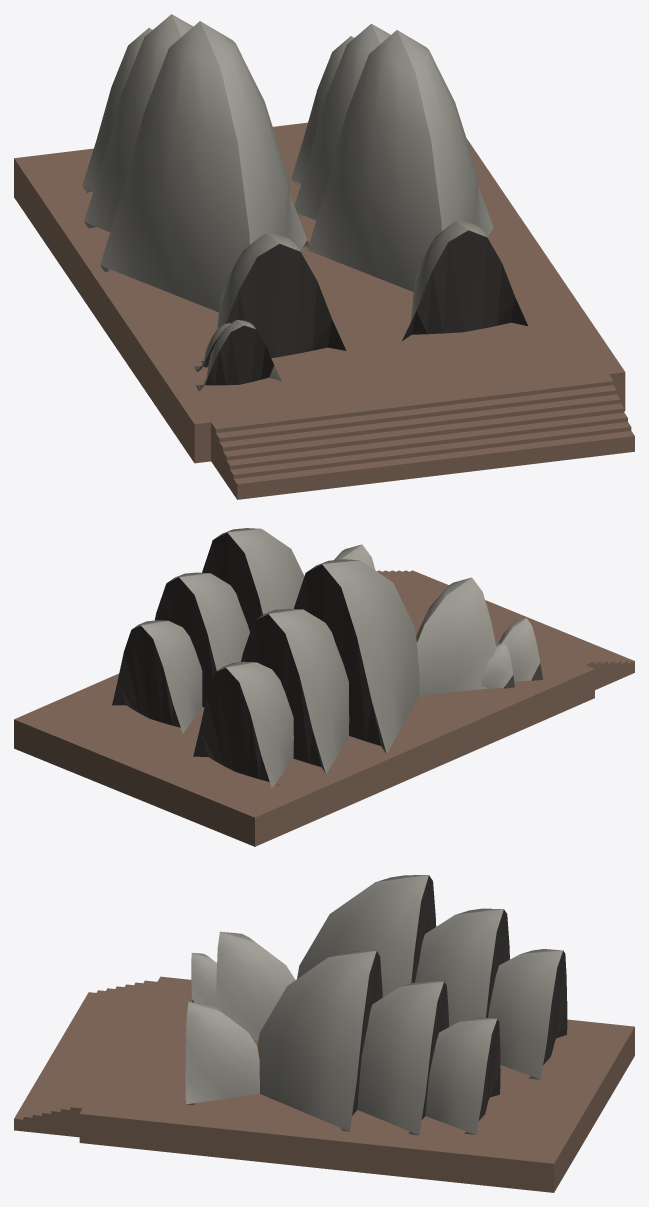
Rendered from sydney_opera_house-r3-lod2.glb.
3 renders of one model, top to bottom at view 1: azimuth 30°, elevation 25°; view 2: azimuth 150°, elevation 25°; view 3: azimuth 270°, elevation 25°, orthographic. The views are drawn at different scales.
Visible parts, largest first — view 1: Tarana granite, Glazed chevron tiles, Topaz glass, bronze mullions; view 2: Tarana granite, Glazed chevron tiles, Topaz glass, bronze mullions; view 3: Glazed chevron tiles, Tarana granite, Topaz glass, bronze mullions.
Boxes of the visible parts, x1,y1,x2,y2 form: Tarana granite: (14,122,634,499); Glazed chevron tiles: (82,14,493,390); Topaz glass, bronze mullions: (82,179,527,390); Tarana granite: (14,570,634,846); Glazed chevron tiles: (132,528,540,787); Topaz glass, bronze mullions: (112,532,542,785); Glazed chevron tiles: (185,875,562,1134); Tarana granite: (14,976,634,1192); Topaz glass, bronze mullions: (187,875,567,1135).
Size of the model in its own units: 139 by 68 by 193.
